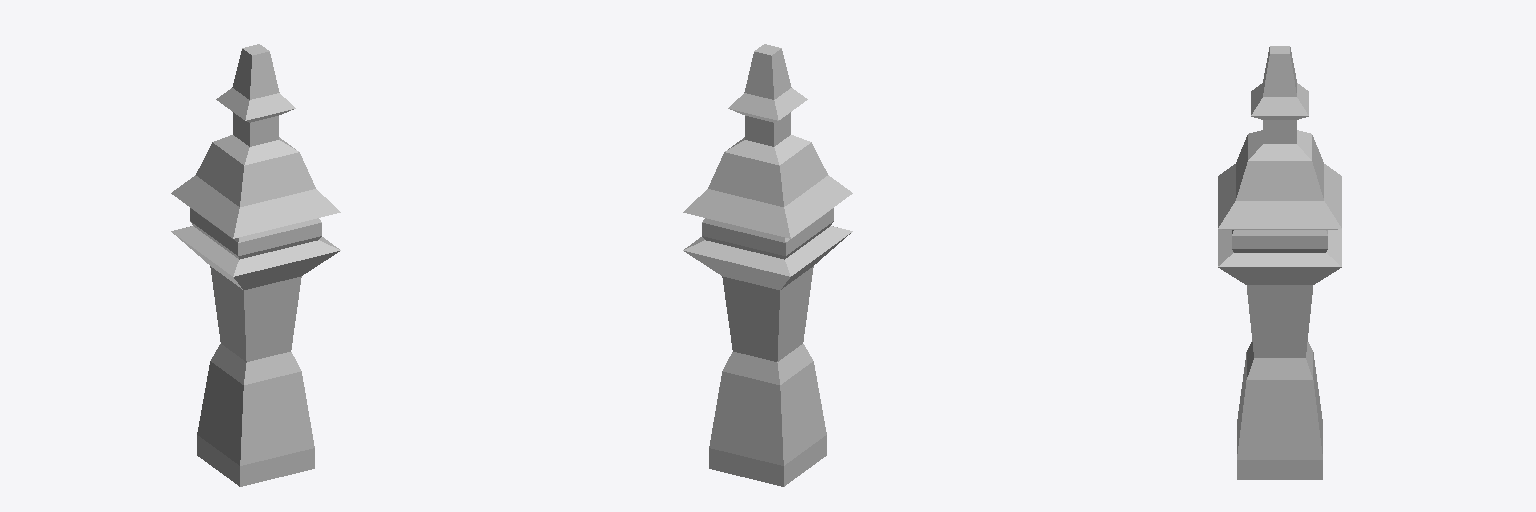
Rendered from Building4.obj.
The picture shows the model from 3 angles: view 1: azimuth 30°, elevation 25°; view 2: azimuth 150°, elevation 25°; view 3: azimuth 270°, elevation 25°; orthographic projection.
Parts seen in each view (by area): view 1: Building4; view 2: Building4; view 3: Building4.
Part boxes in pixels (bbox=[...]): Building4: bbox=[171, 44, 340, 486]; Building4: bbox=[683, 44, 852, 486]; Building4: bbox=[1218, 46, 1341, 479].
Size of the model in its own units: 14.31 by 52.12 by 14.31.